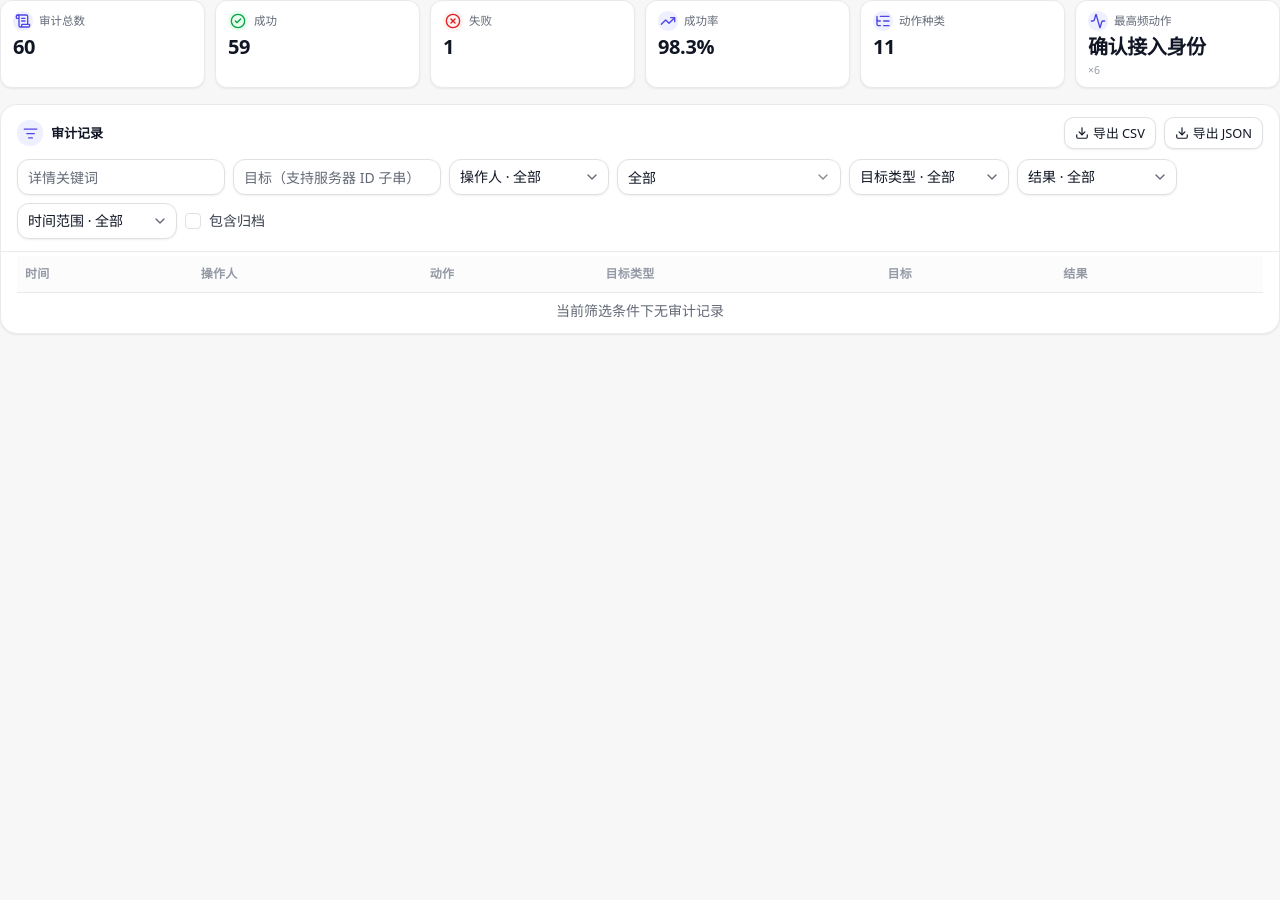
Test: /audits 动作筛选与后端枚举同源 › 键入英文枚举子串可过滤候选，选中后请求带 action=
Expected: the text "审计总数" is shown, [39,12,85,30]
In the dropdown named "动作": coordinates (729, 177) [617,159,841,195], type "tail-logs"
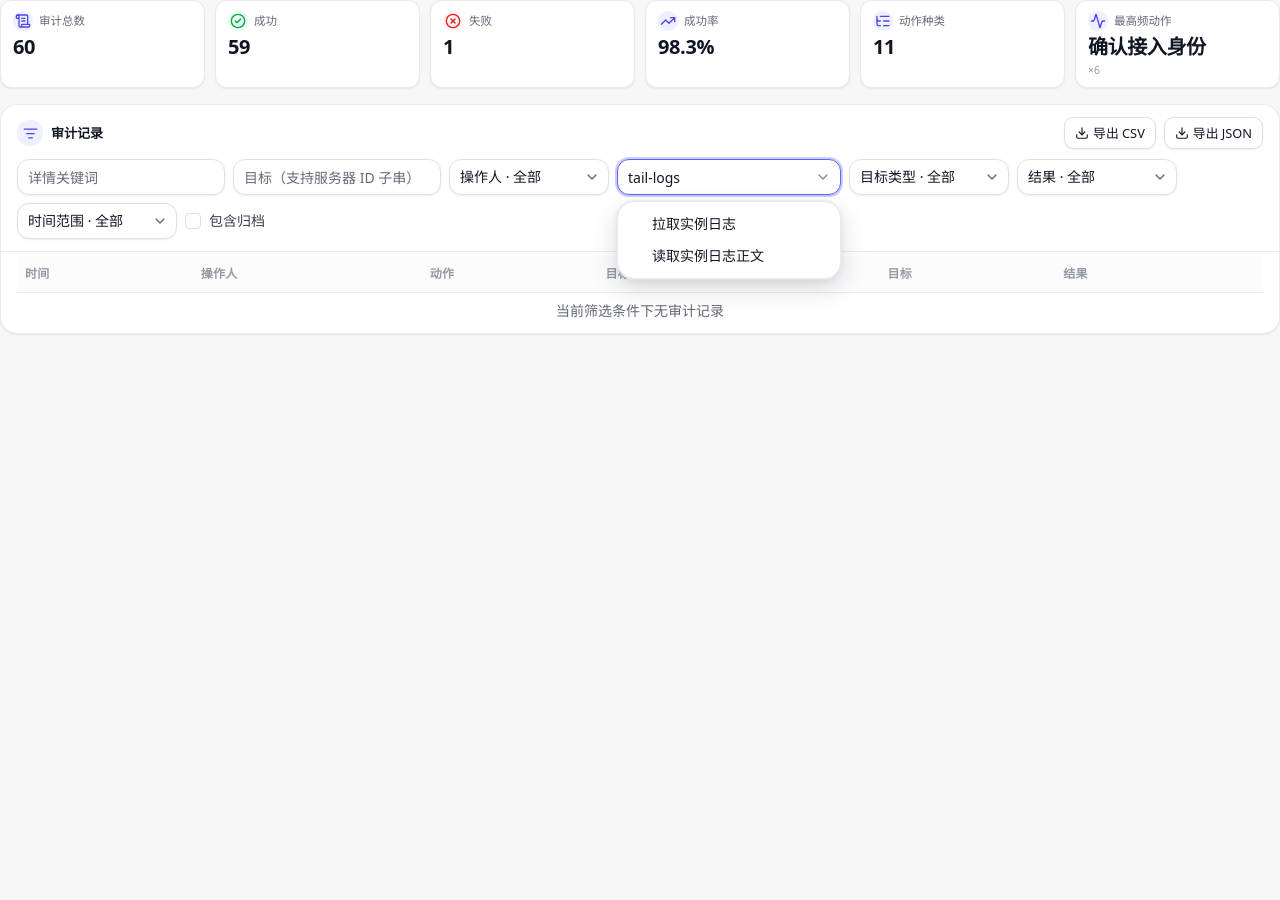
Click the option "拉取实例日志": coordinates (694, 224) [652,214,736,233]
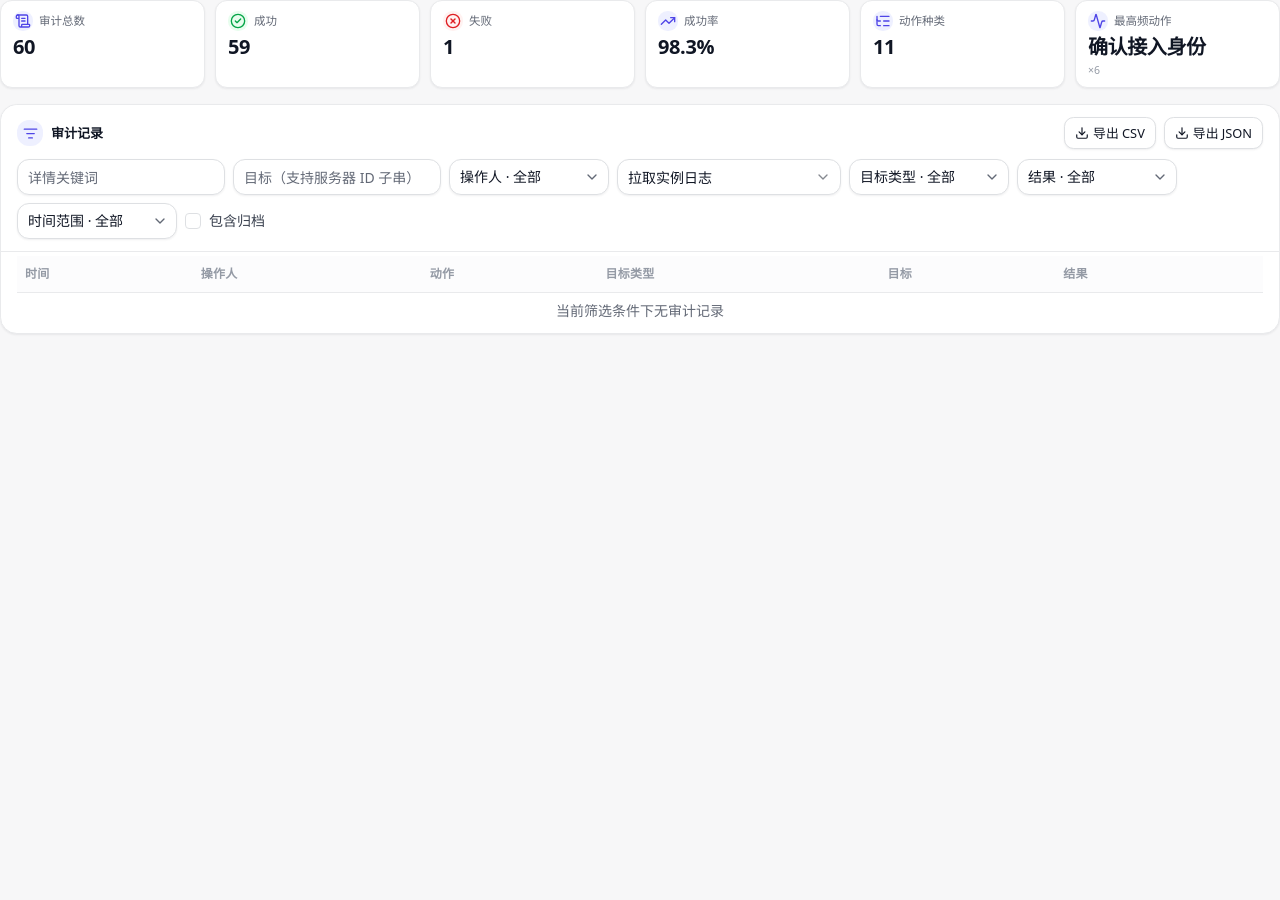
Expected: the dropdown named "动作" holds "拉取实例日志", [617,159,841,195]
